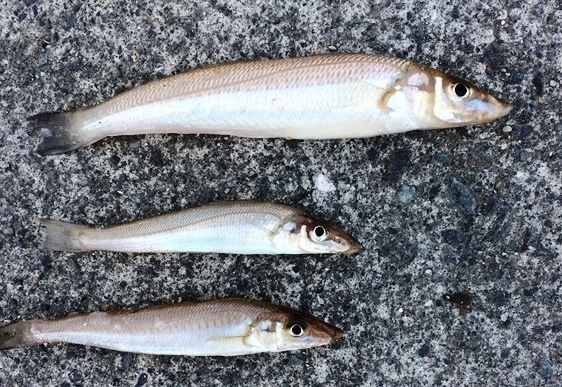kiss: (33, 43, 518, 151), (10, 285, 334, 370), (35, 190, 365, 259)
